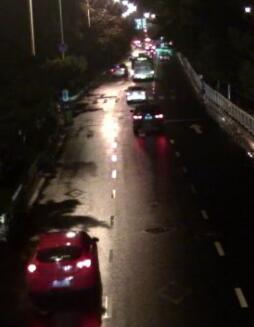bus: (129, 51, 156, 81)
car: (21, 232, 100, 307), (129, 102, 165, 133), (122, 84, 151, 103), (110, 61, 129, 78)
